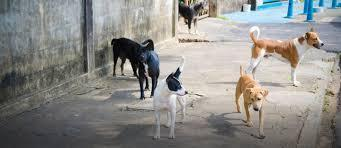normal_dogs: (248, 25, 324, 88), (112, 31, 158, 107), (232, 63, 270, 141), (155, 56, 189, 142), (173, 1, 209, 33)
